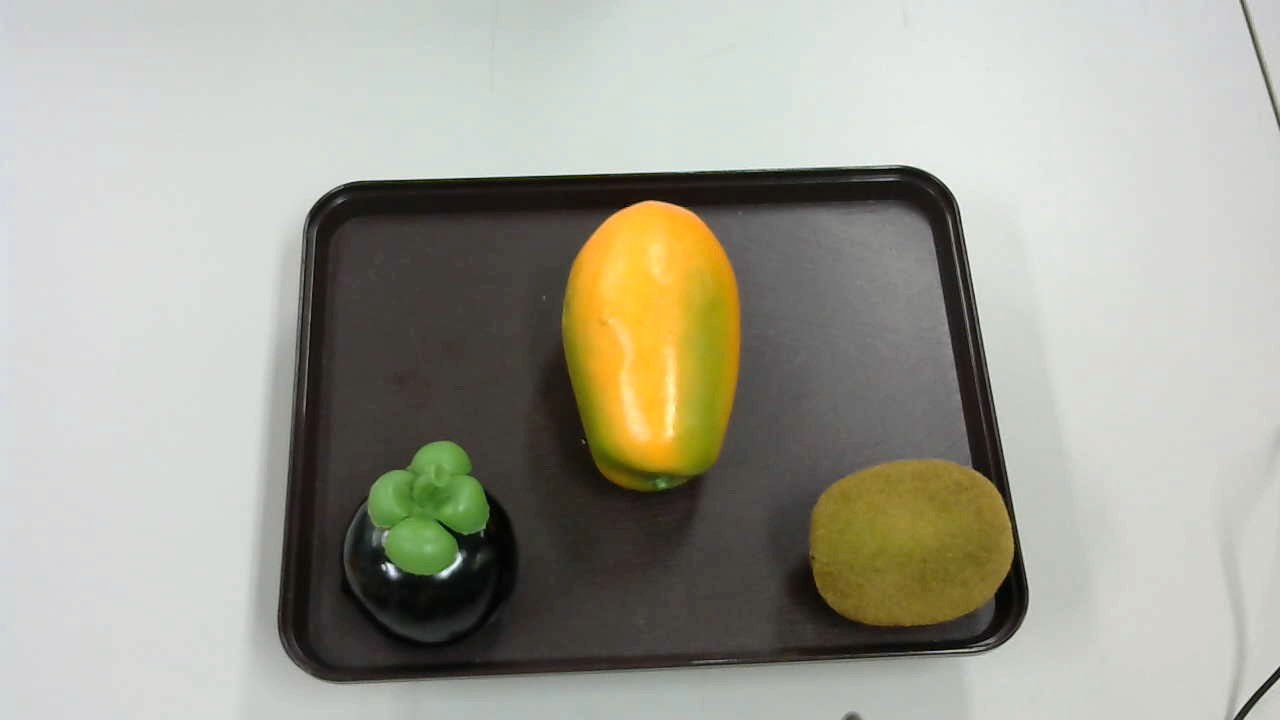kiwi fruit: (804, 457, 1016, 634)
mangosteen: (339, 440, 525, 647)
papya: (562, 196, 746, 503)
